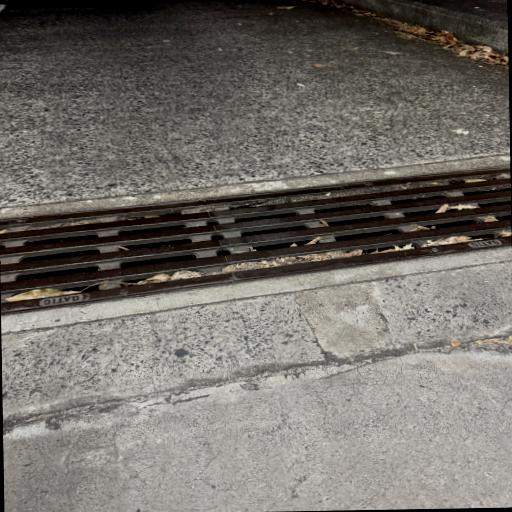debris: (391, 21, 508, 67)
gutter: (0, 167, 512, 314)
